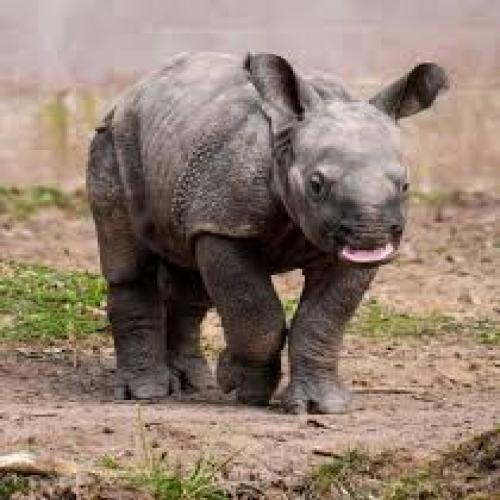rhino-endangered: (81, 48, 446, 421)
